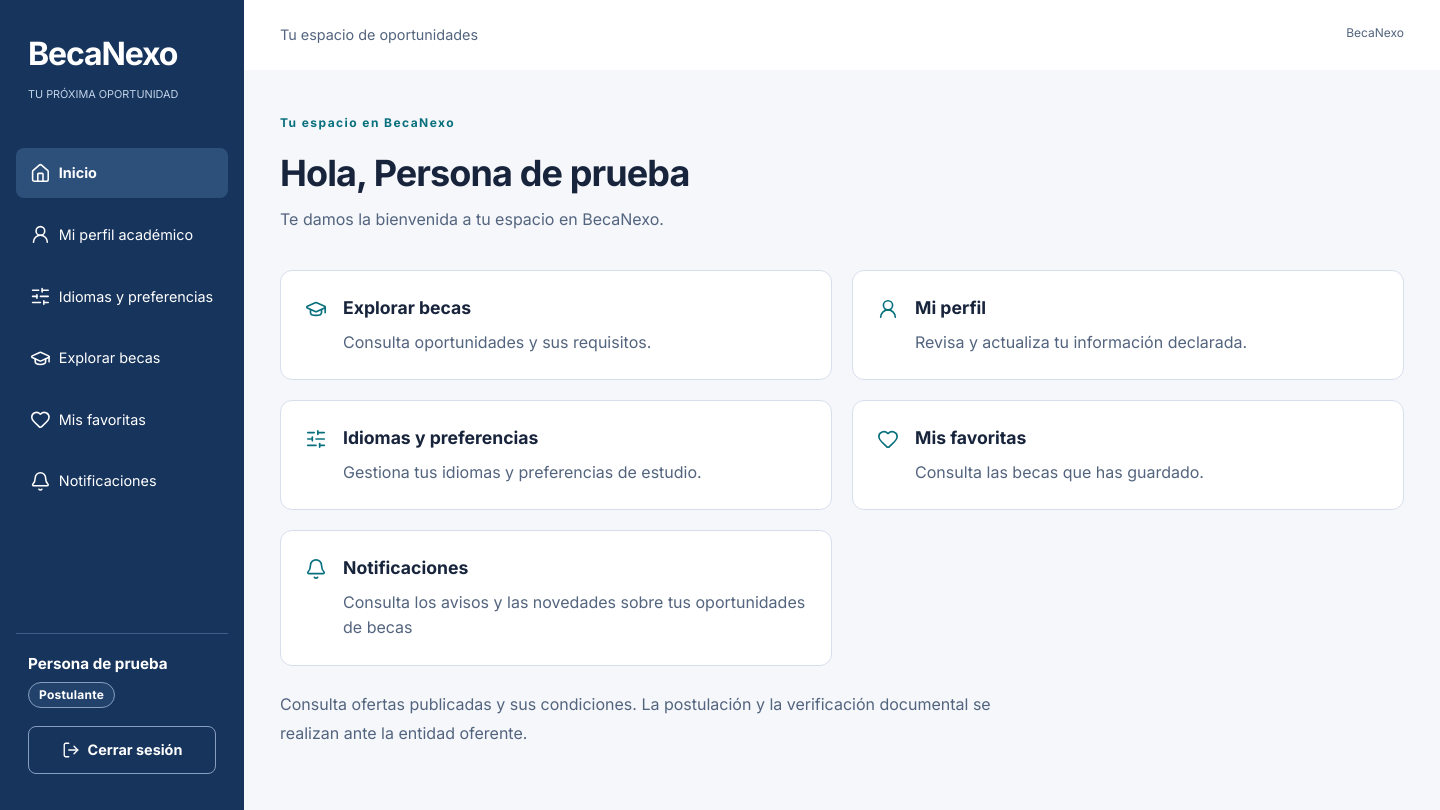
Test: Navegación y sesión › cierra sesión y maneja 204 sin JSON
Expected: the heading "Hola, Persona de prueba" is shown, [280,151,689,195]
Click the button "Cerrar sesión".
click(122, 750)  # box [28,726,216,774]
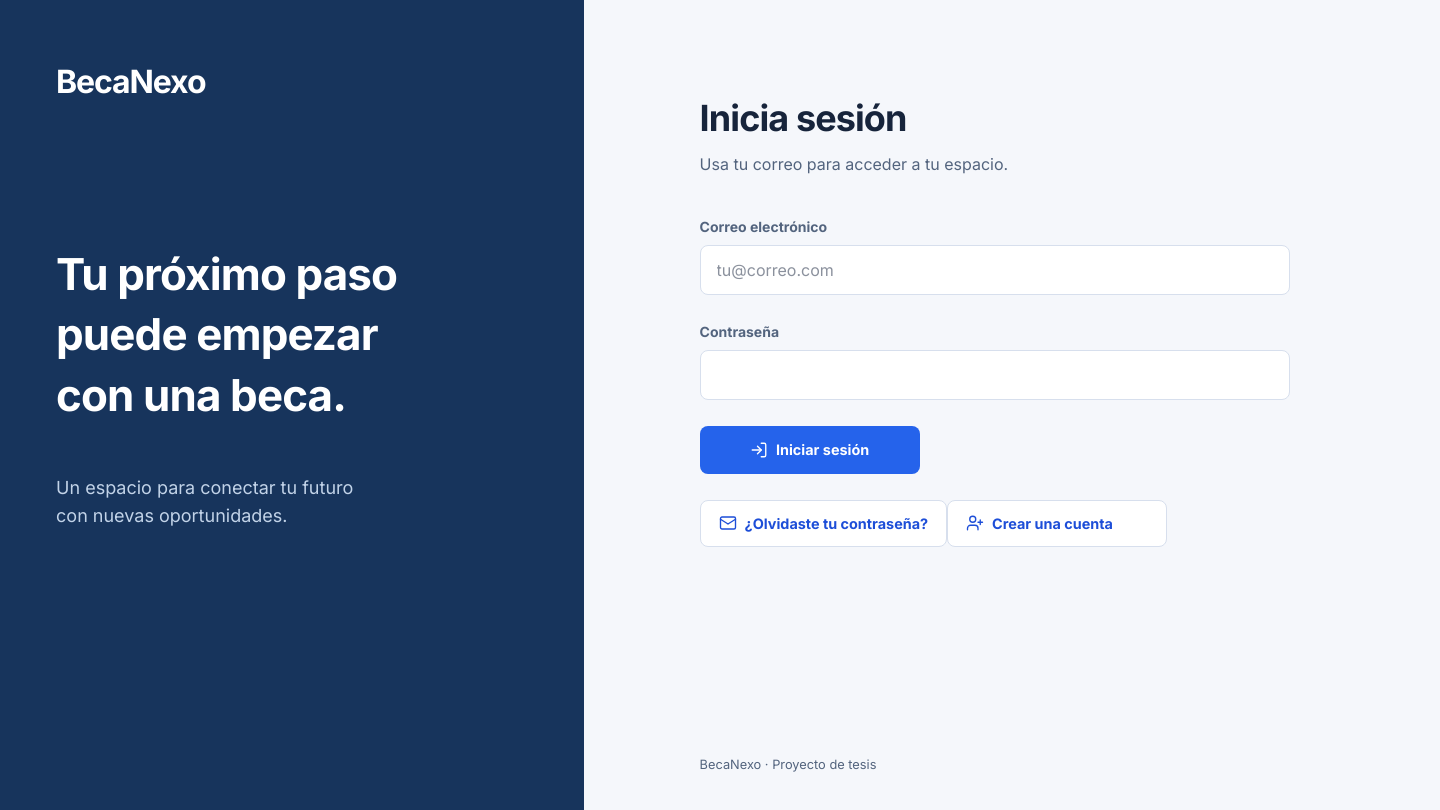
Expected: the heading "Inicia sesión" is shown, [700,96,907,140]
